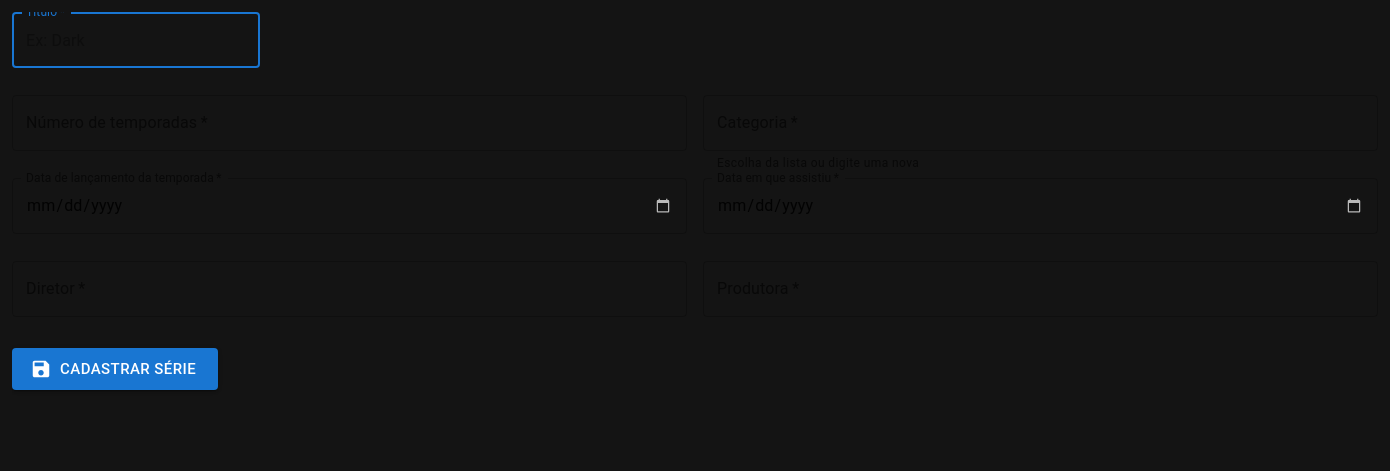
SerieForm › mostra os erros e não envia quando o formulário está vazio
The image size is (1390, 471).
Click the button "Cadastrar série" at [115, 369], box [12, 348, 218, 390]
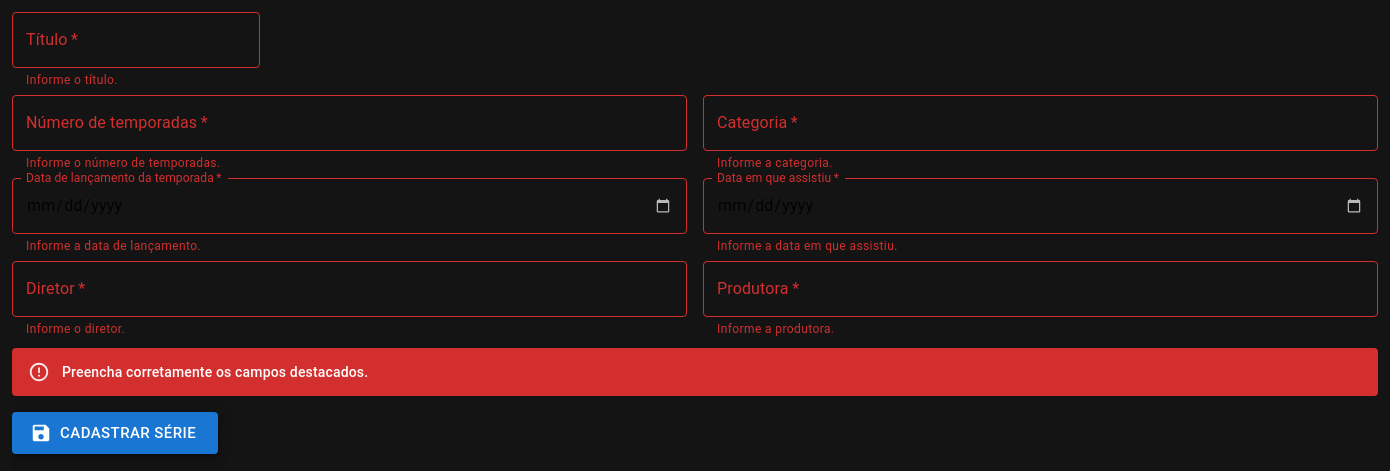
Expected: the message shows "Preencha corretamente", [62, 364, 368, 380]
Expected: the text "Informe o título." is shown, [26, 73, 118, 87]
Expected: the text "Informe o diretor." is shown, [26, 322, 125, 336]
